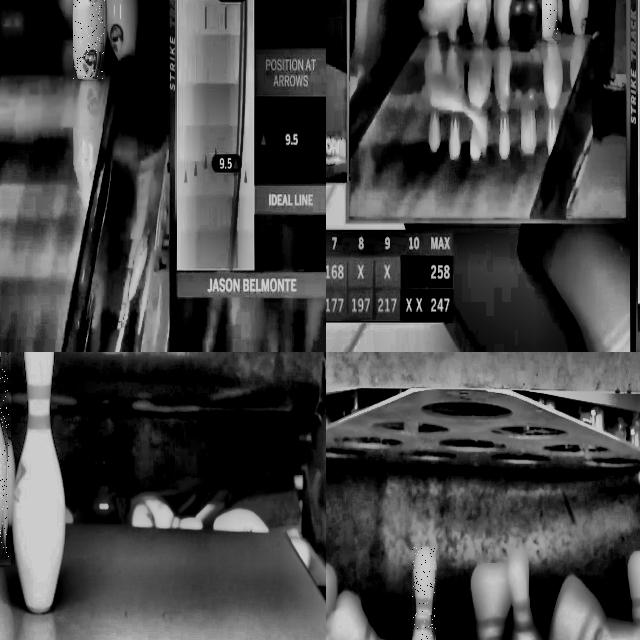bowling-ball: (510, 0, 542, 50)
bowling-pins: (13, 352, 65, 612), (509, 552, 542, 640), (73, 0, 105, 79), (413, 547, 436, 640), (475, 567, 499, 640), (468, 0, 488, 44), (446, 0, 464, 42), (494, 0, 511, 43), (570, 0, 589, 35), (543, 0, 559, 38)
